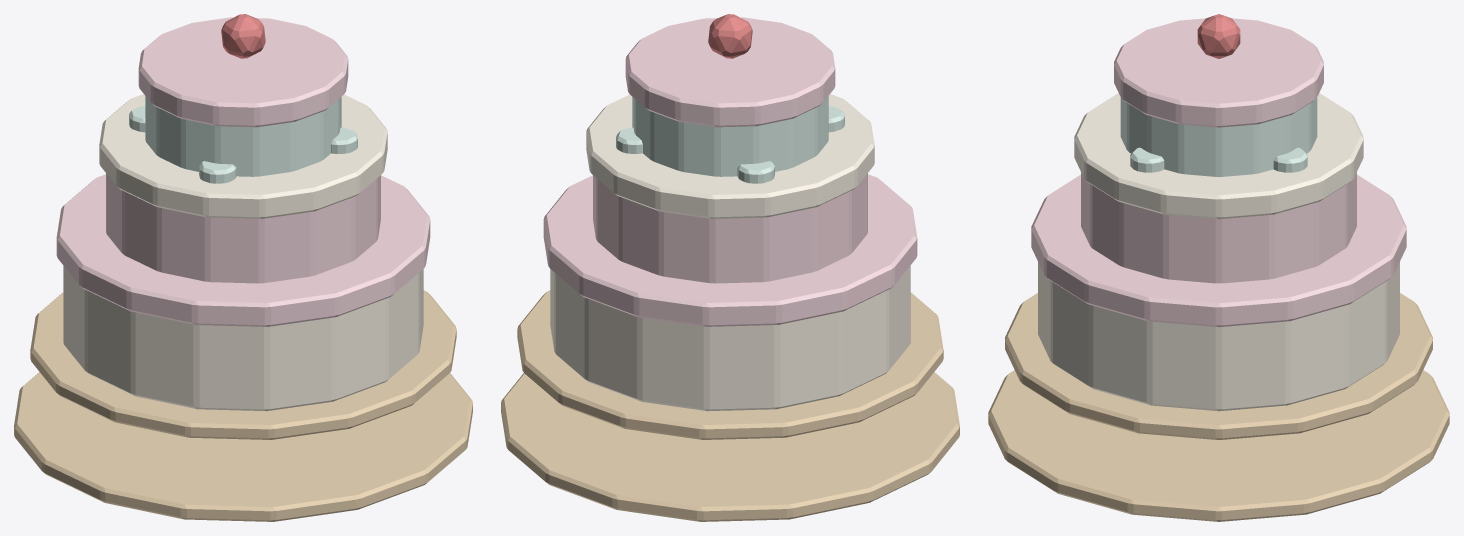
Rendered from tort.glb.
3 renders of one model, left to right at view 1: azimuth 30°, elevation 25°; view 2: azimuth 150°, elevation 25°; view 3: azimuth 270°, elevation 25°, orthographic.
Visible parts, largest first — view 1: Wedding_Cake; view 2: Wedding_Cake; view 3: Wedding_Cake.
Part boxes in pixels (left/top/right/bottom): Wedding_Cake: left=14, top=14, right=472, bottom=521; Wedding_Cake: left=501, top=14, right=959, bottom=521; Wedding_Cake: left=988, top=14, right=1449, bottom=521.
Size of the model in its own units: 1.4 by 1.37 by 1.4.
